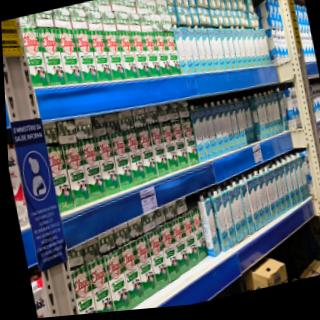Milk: (91, 129, 123, 199), (116, 237, 146, 307), (77, 135, 107, 202), (84, 257, 116, 314), (143, 228, 170, 294), (195, 193, 222, 258), (207, 188, 231, 252), (216, 184, 238, 248), (235, 176, 256, 238), (178, 211, 201, 267), (148, 121, 171, 176), (186, 204, 208, 261), (188, 101, 208, 163), (201, 99, 220, 160), (247, 88, 268, 143), (260, 166, 280, 220), (215, 96, 232, 155), (281, 83, 300, 133), (162, 28, 181, 76), (53, 117, 78, 151), (232, 95, 248, 147), (186, 22, 202, 74), (228, 23, 244, 71), (217, 22, 232, 70), (299, 149, 314, 196), (265, 26, 282, 66), (266, 89, 280, 133), (249, 25, 263, 67), (84, 6, 104, 32), (308, 81, 320, 122), (124, 216, 144, 239), (112, 7, 129, 34), (96, 232, 117, 253), (256, 11, 276, 32), (117, 109, 135, 132), (275, 28, 286, 63), (126, 9, 141, 33), (138, 11, 153, 33), (159, 11, 173, 33), (163, 202, 179, 221), (255, 0, 273, 15), (167, 102, 180, 122), (243, 0, 254, 15), (234, 0, 243, 12), (271, 0, 278, 15), (205, 0, 216, 9), (162, 0, 174, 8), (179, 0, 189, 9), (222, 0, 231, 10), (192, 0, 203, 8), (171, 0, 183, 7)
